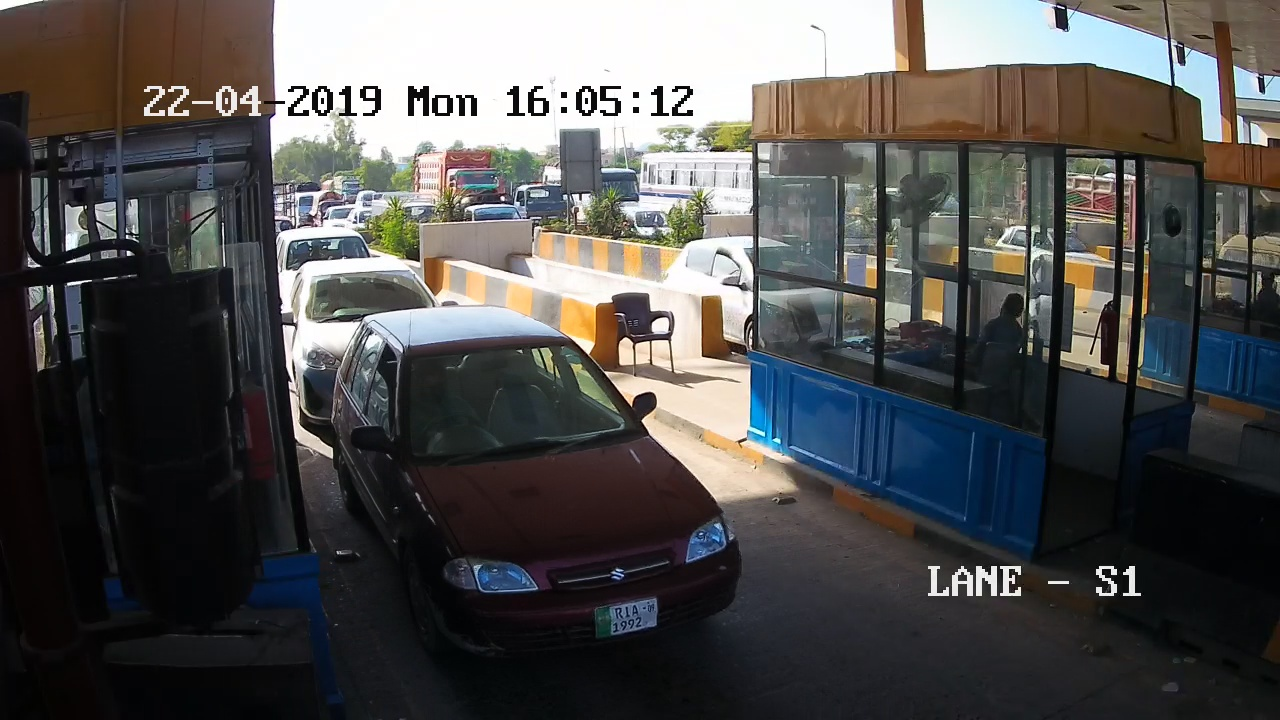Number Plate (Car): (591, 601, 662, 635)
